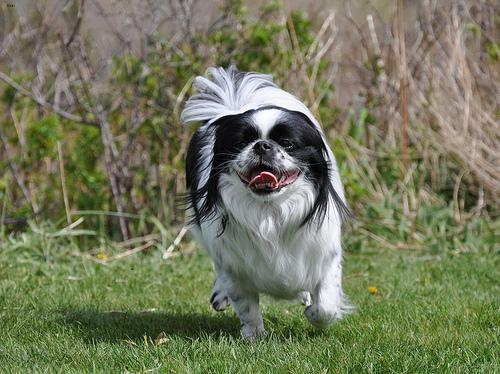dog-japanese_chin: (184, 104, 327, 200)
